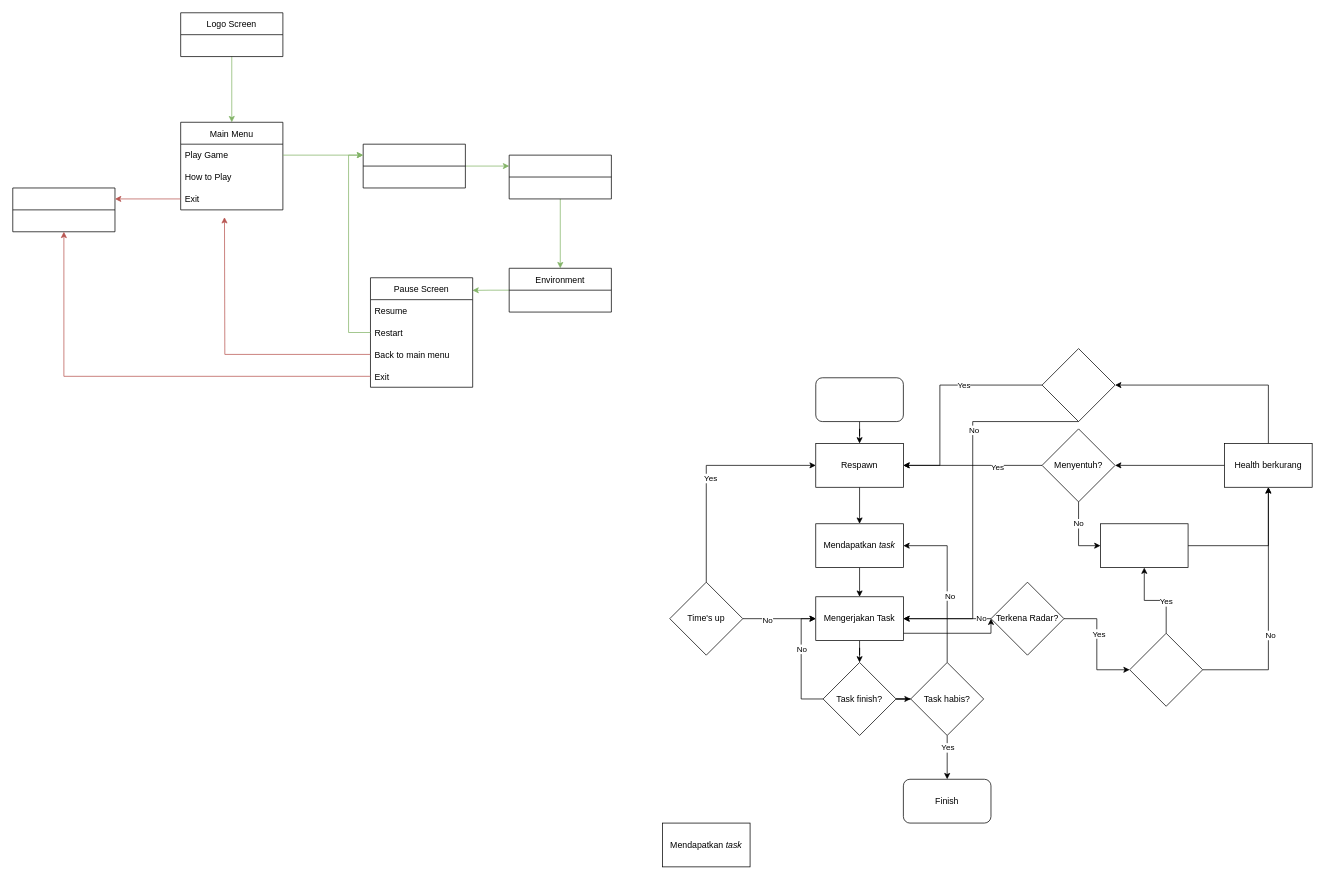
Image size: 1325x880. Some labels were removed from this diagram. The centre of each missing label's shape, as x and y in pixels:
Active Enemy?: point (1166, 669)
Dikejar musuh: point (1144, 545)
Exit game: point (63, 209)
Game Setup: point (413, 165)
Health == 0?: point (1078, 385)
Loading: point (559, 176)
Start Game: point (859, 399)
